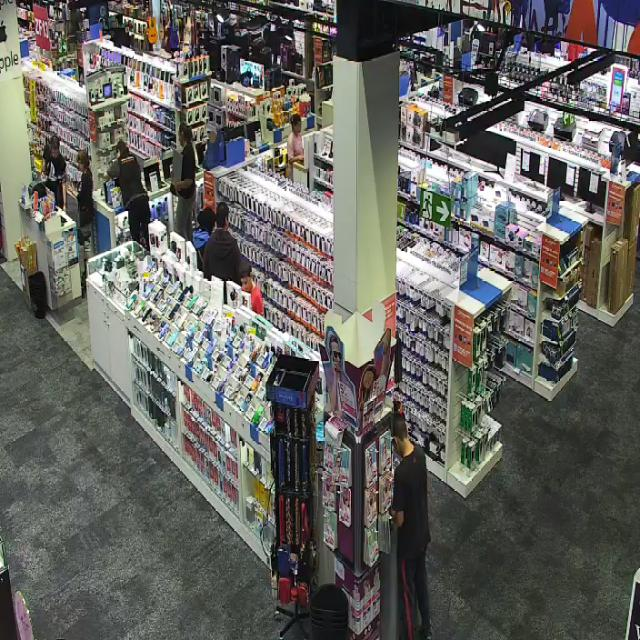hands: (170, 184, 176, 195)
person: (107, 139, 149, 246), (204, 202, 241, 283), (172, 122, 195, 239), (78, 150, 93, 257), (45, 134, 65, 208), (192, 210, 214, 271), (241, 261, 264, 314)
